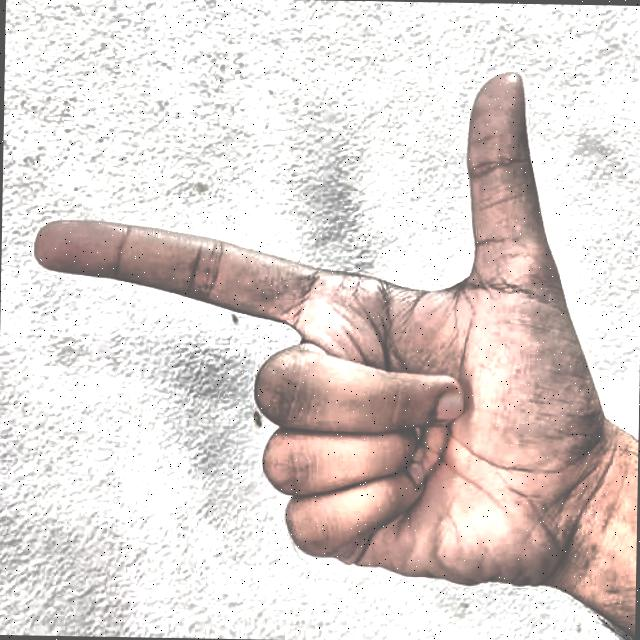Tha: (21, 48, 612, 621)
